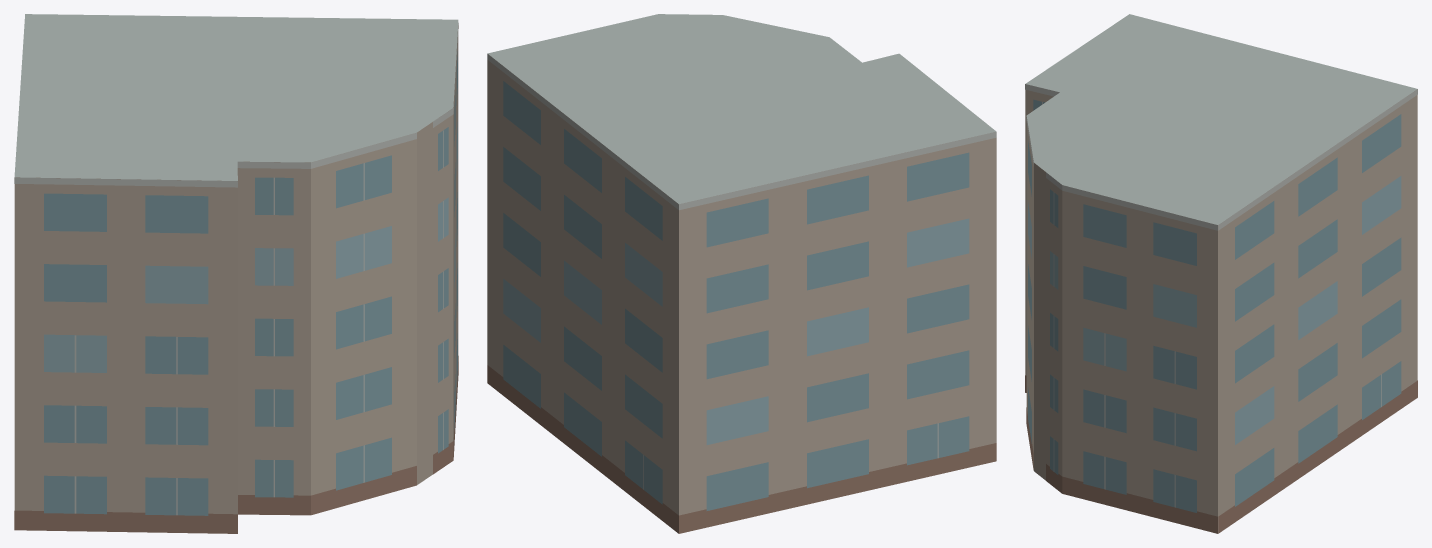
File: survey-upis-32707420.glb
3 views of the same model, side by side, from view 1: azimuth 30°, elevation 25°; view 2: azimuth 150°, elevation 25°; view 3: azimuth 270°, elevation 25° (orthographic). The views are drawn at different scales.
Visible parts, largest first — view 1: survey-upis-32707420.tmp; view 2: survey-upis-32707420.tmp; view 3: survey-upis-32707420.tmp.
Part boxes in pixels (x1=…): survey-upis-32707420.tmp: x1=14, y1=14, x2=458, y2=533; survey-upis-32707420.tmp: x1=487, y1=14, x2=996, y2=533; survey-upis-32707420.tmp: x1=1025, y1=14, x2=1417, y2=533.
Size of the model in its own units: 19.52 by 13.3 by 15.34.
